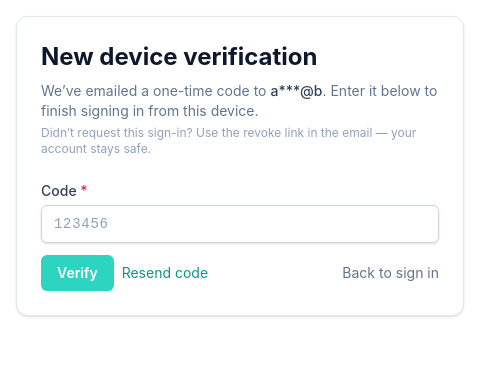
Test: <VerifyNewDevicePage> › resend issues a fresh challenge and updates the masked email
Click the button with test id "verify-device-resend" at (165, 273), box x1=122 y1=263 x2=208 y2=283
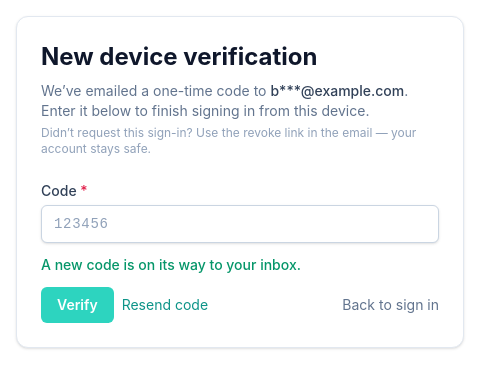
Check: the text "A new code is on its way to your inbox." is shown, box x1=41 y1=256 x2=301 y2=273
Check: the text "b***@example.com" is shown, box x1=270 y1=82 x2=404 y2=99
